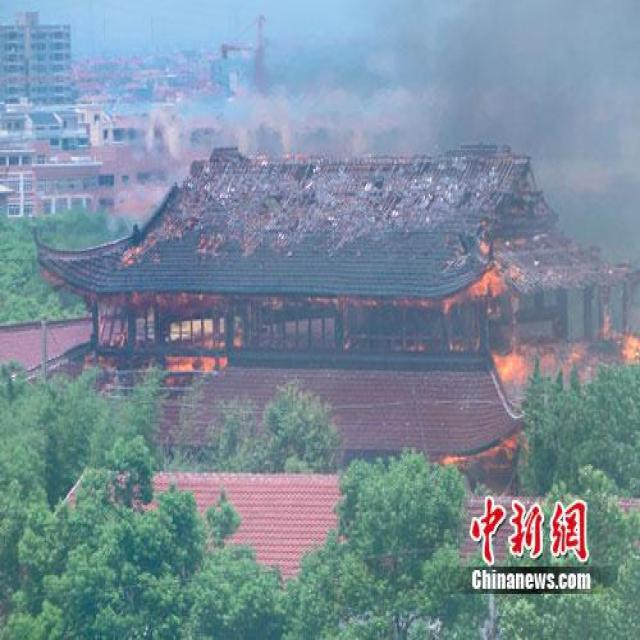fire: (438, 428, 518, 468), (153, 341, 234, 376), (592, 299, 633, 364), (463, 239, 508, 296), (490, 336, 540, 384), (120, 240, 139, 270)
other: (132, 466, 354, 570), (459, 484, 596, 566)
smoke: (464, 42, 617, 149)
